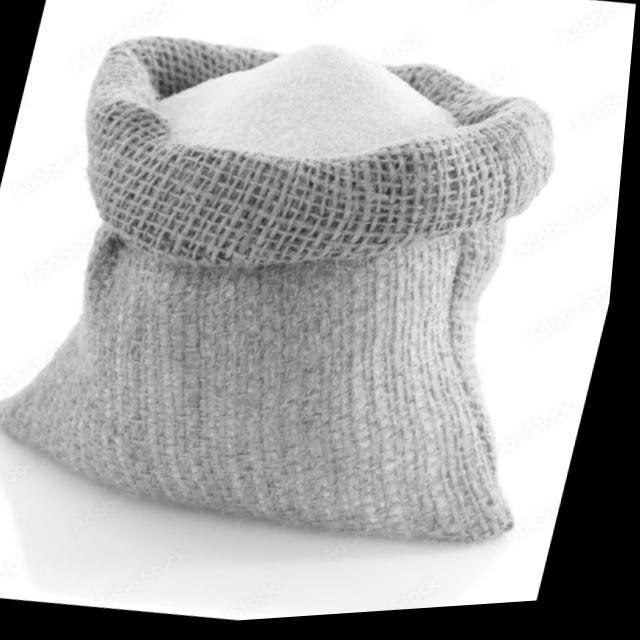sack: (0, 0, 629, 586)
